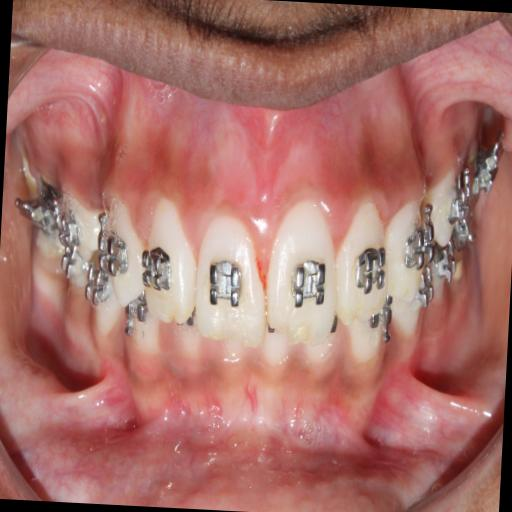correct_brace: (204, 253, 246, 314), (290, 254, 330, 314), (140, 238, 178, 296), (96, 224, 132, 282), (354, 242, 389, 300), (402, 216, 436, 274)
incorrect_brace: (140, 208, 199, 326), (336, 199, 395, 311)
